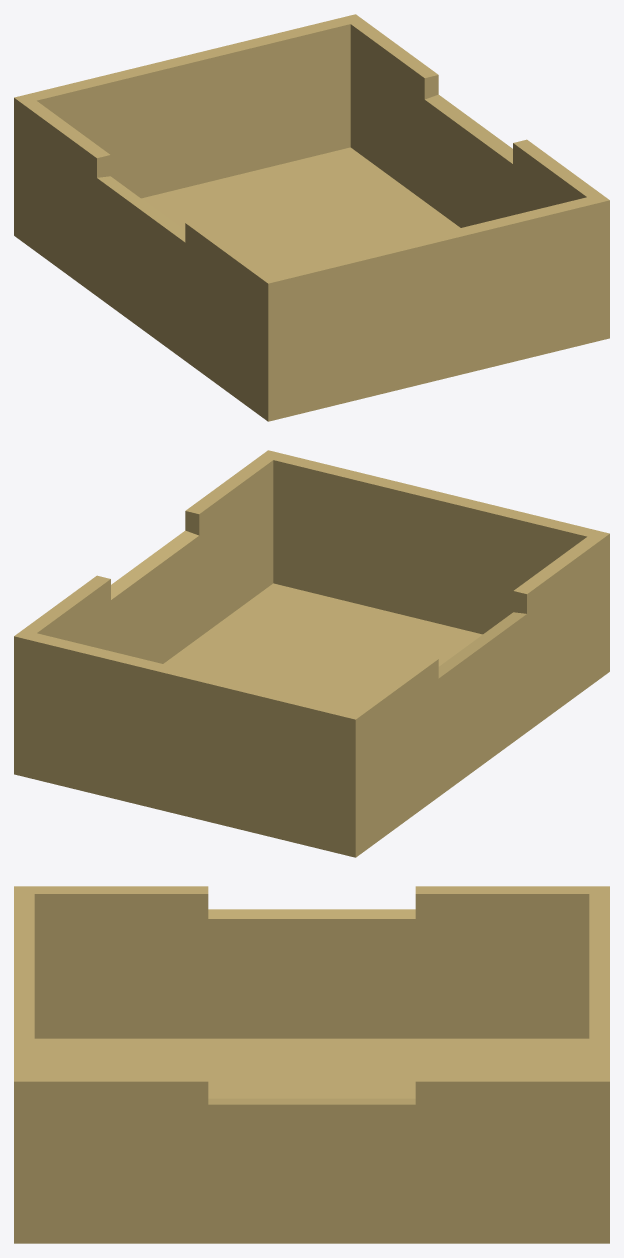
3 renders of one model, top to bottom at view 1: azimuth 30°, elevation 25°; view 2: azimuth 150°, elevation 25°; view 3: azimuth 270°, elevation 25°, orthographic. The views are drawn at different scales.
Parts seen in each view (by area): view 1: SM_Box_01; view 2: SM_Box_01; view 3: SM_Box_01.
Part boxes in pixels (x1,y1,x2,y2): SM_Box_01: [14, 14, 609, 421]; SM_Box_01: [14, 450, 609, 857]; SM_Box_01: [14, 886, 609, 1243].
Bounding box in the file's own units: 0.4045 × 0.1562 × 0.5212.
Materials: 1 (1 with a texture image).
